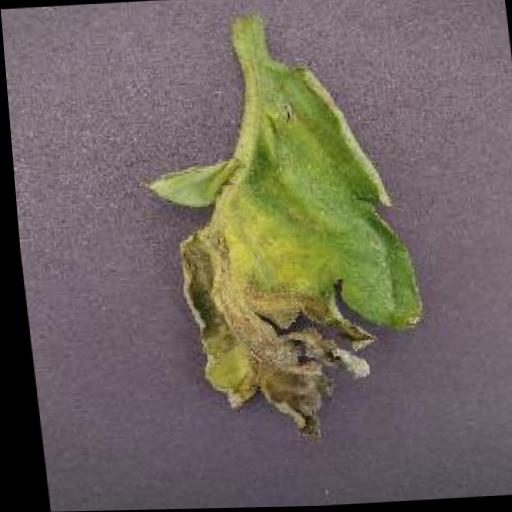Late Blight: (127, 50, 433, 448)
